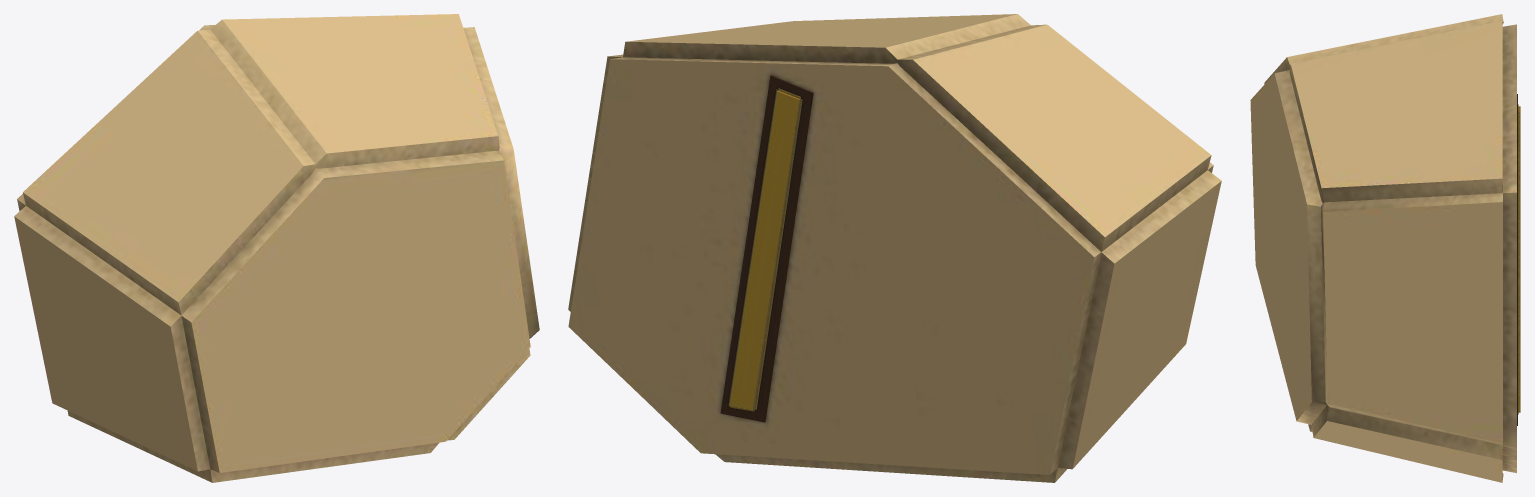
3 renders of one model, left to right at view 1: azimuth 30°, elevation 25°; view 2: azimuth 150°, elevation 25°; view 3: azimuth 270°, elevation 25°, orthographic. The views are drawn at different scales.
Parts seen in each view (by area): view 1: Sandstone_E3C38A; view 2: Sandstone_E3C38A, Polished_Inlay_D4A632, Weathered_Crevice_4A2E1C; view 3: Sandstone_E3C38A, Polished_Inlay_D4A632, Weathered_Crevice_4A2E1C.
Part boxes in pixels (left/top/right/bottom): Sandstone_E3C38A: left=14, top=14, right=539, bottom=482; Sandstone_E3C38A: left=568, top=14, right=1221, bottom=482; Polished_Inlay_D4A632: left=728, top=88, right=802, bottom=411; Weathered_Crevice_4A2E1C: left=720, top=75, right=813, bottom=422; Sandstone_E3C38A: left=1250, top=14, right=1516, bottom=482; Polished_Inlay_D4A632: left=1518, top=104, right=1520, bottom=414; Weathered_Crevice_4A2E1C: left=1517, top=94, right=1517, bottom=425.
Bounding box in the file's own units: 0.2931 × 0.2329 × 0.1467.
3 materials, 3 textured.
